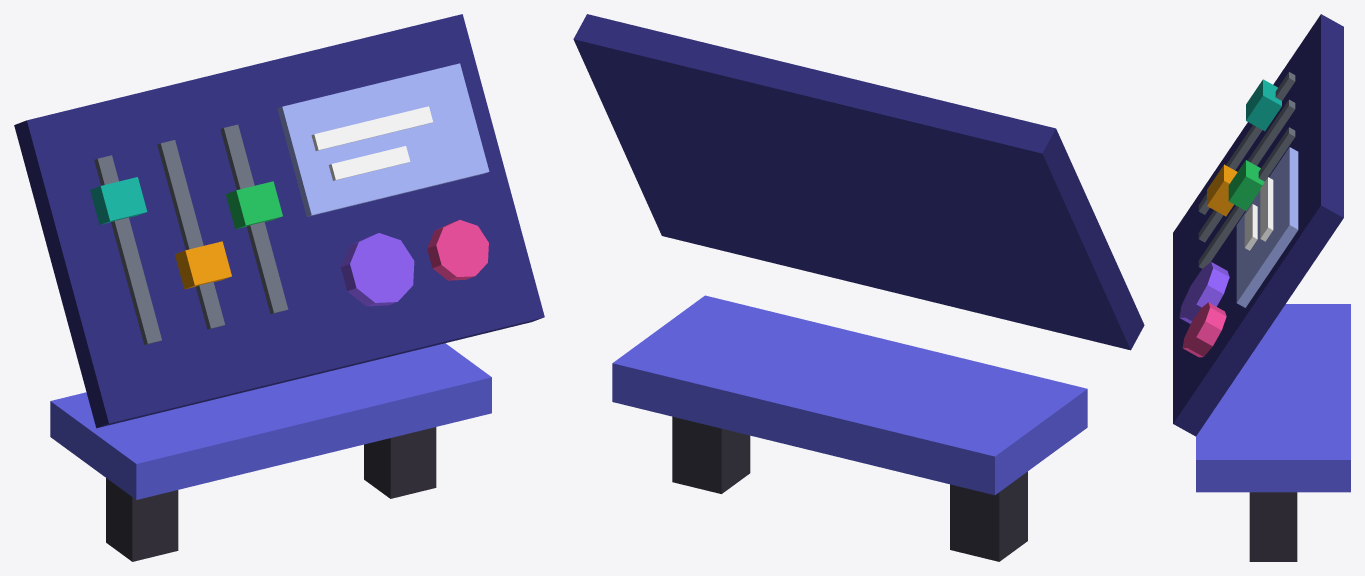
File: console.glb
3 views of the same model, side by side, from view 1: azimuth 30°, elevation 25°; view 2: azimuth 150°, elevation 25°; view 3: azimuth 270°, elevation 25° (orthographic). The views are drawn at different scales.
Visible parts, largest first — view 1: console; view 2: console; view 3: console.
Part boxes in pixels (box(x1,y1,x2,y2)): console: box(14, 14, 544, 561); console: box(573, 14, 1144, 561); console: box(1173, 14, 1350, 561).
Size of the model in its own units: 1.52 by 1.43 by 0.5966.
